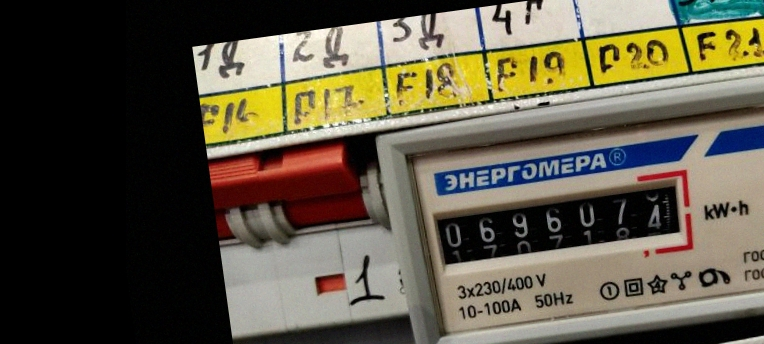0: (441, 218, 466, 249), (577, 197, 598, 228), (477, 214, 497, 242)
4: (644, 201, 665, 231)
6: (542, 202, 564, 234)
7: (610, 194, 631, 225)
9: (510, 208, 531, 239)
screen: (417, 164, 700, 285)
